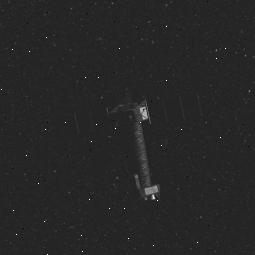xmm_newton: (89, 88, 191, 215)
